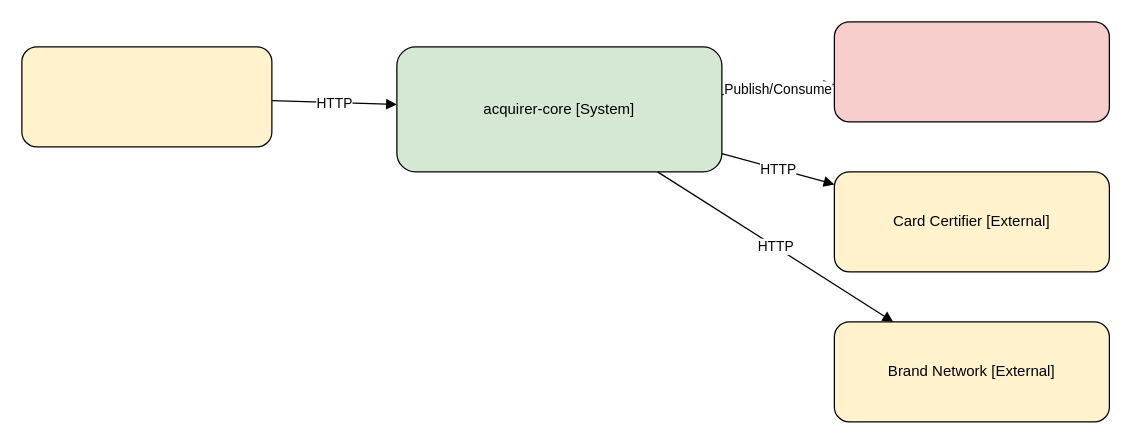
This 1131x444 diagram has some shape labels left out. Each missing label, with the centre of its shape:
Kafka [Message Broker]: the point at 971,71
Merchant / POS [External]: the point at 146,96
